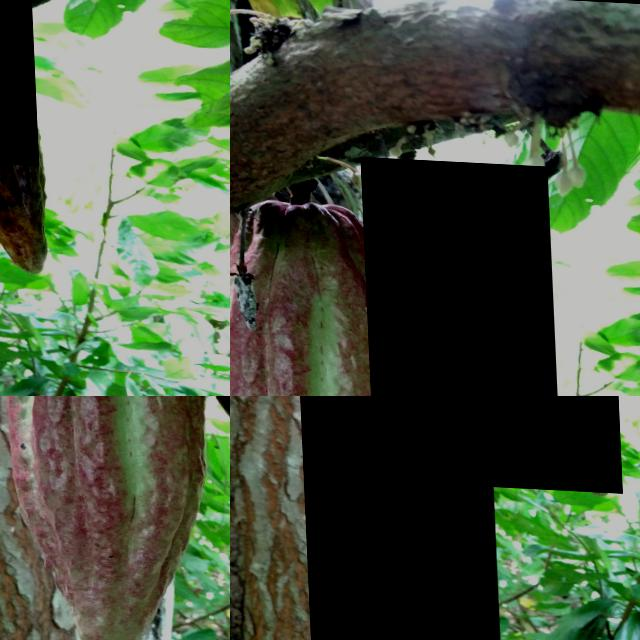Fitoftora: (474, 396, 618, 489)
Monilia: (359, 154, 557, 396)
Sana: (290, 396, 494, 640)
